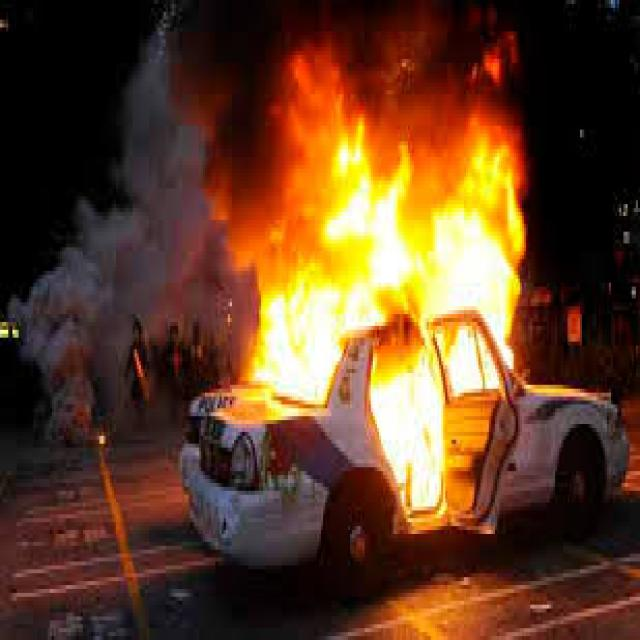Fire: (233, 156, 536, 513)
Smoke: (68, 29, 246, 396)
